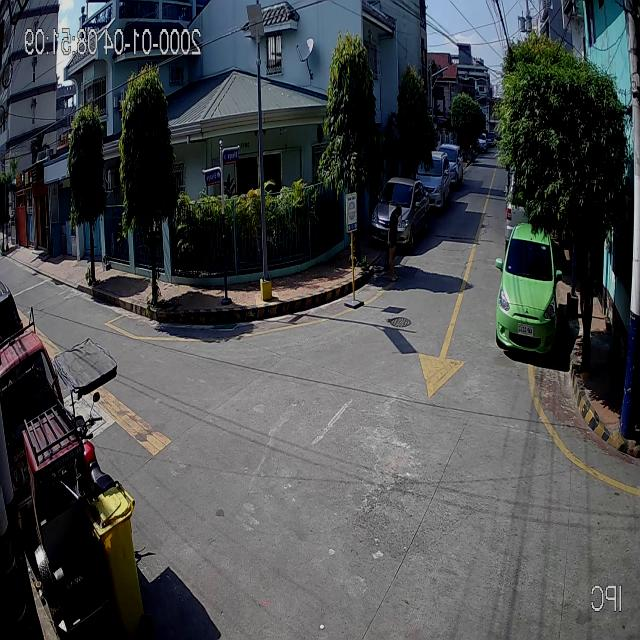walking: (383, 203, 403, 282)
